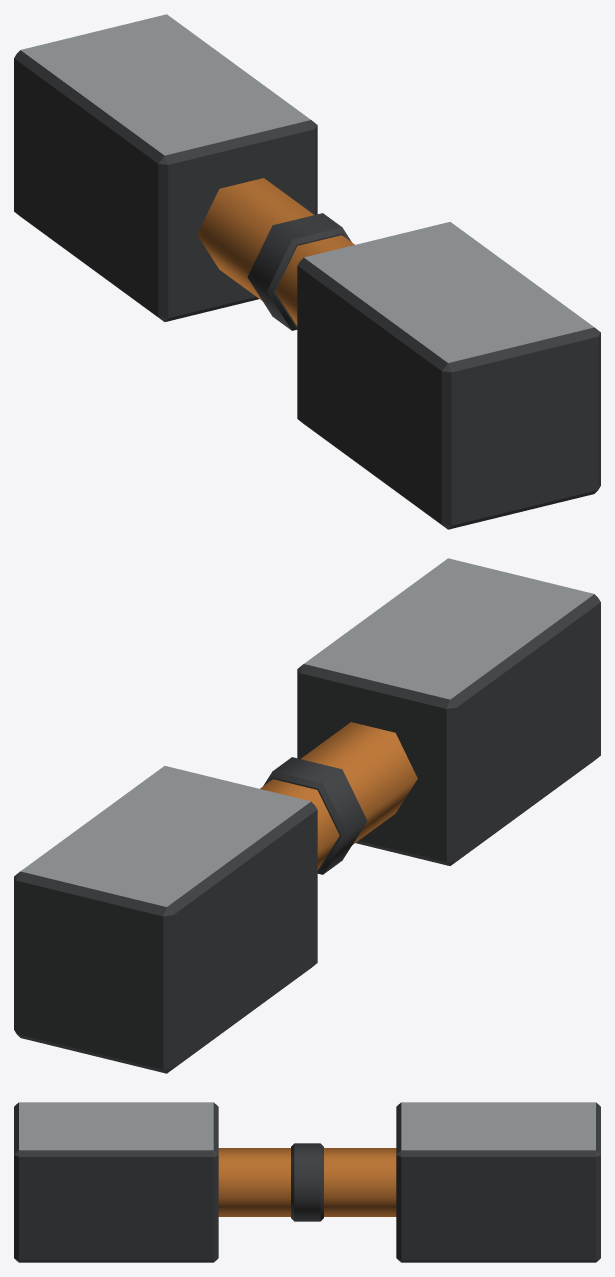
File: R4C_ROD_SHORT_LOD1.fbx
The picture shows the model from 3 angles, top to bottom: view 1: azimuth 30°, elevation 25°; view 2: azimuth 150°, elevation 25°; view 3: azimuth 270°, elevation 25°; orthographic projection. The views are drawn at different scales.
Parts seen in each view (by area): view 1: R4C_ROD_SHORT_LOD1; view 2: R4C_ROD_SHORT_LOD1; view 3: R4C_ROD_SHORT_LOD1.
Part boxes in pixels (x1=…): R4C_ROD_SHORT_LOD1: x1=14, y1=14, x2=600, y2=529; R4C_ROD_SHORT_LOD1: x1=14, y1=558, x2=600, y2=1073; R4C_ROD_SHORT_LOD1: x1=14, y1=1102, x2=600, y2=1262.
Bounding box in the file's own units: 0.226 × 0.226 × 1.07.
